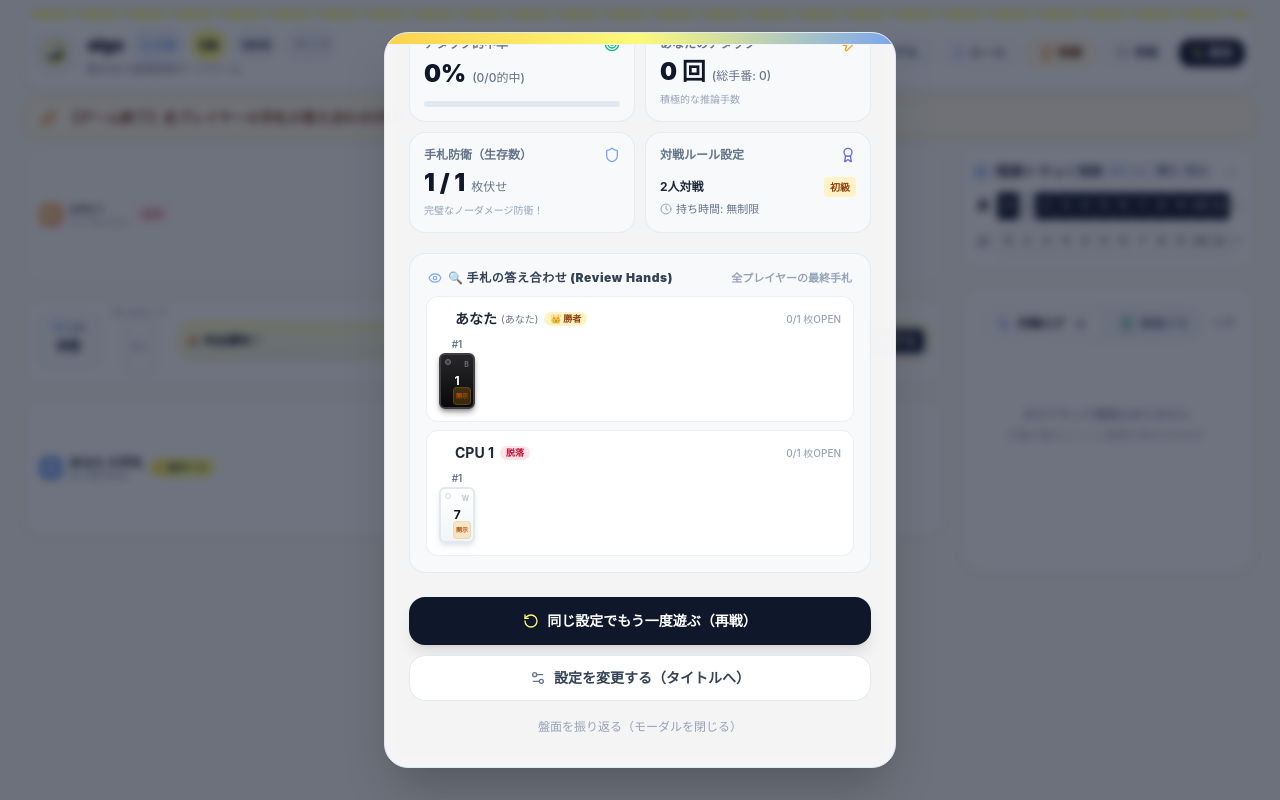
GameBoard Component & Timer Pause/Resume Logic (Issue #13) › 持ち時間タイマー警告演出 & プログレスバー & タイムアップ通知 (Issue #15) › 決着画面（SCR-006 / GAME_OVER）と ResultModal の統合検証 › Issue #60: リザルトモーダルを閉じた際（盤面振り返り時）に相手カードが開示されたままであり、結果を見るボタンが表示される
(page scrolled)
# 「盤面を振り返る（モーダルを閉じる）」をクリック
Click the button "盤面を振り返る（モーダルを閉じる）".
click(640, 727)  # box 409,711 -> 871,743
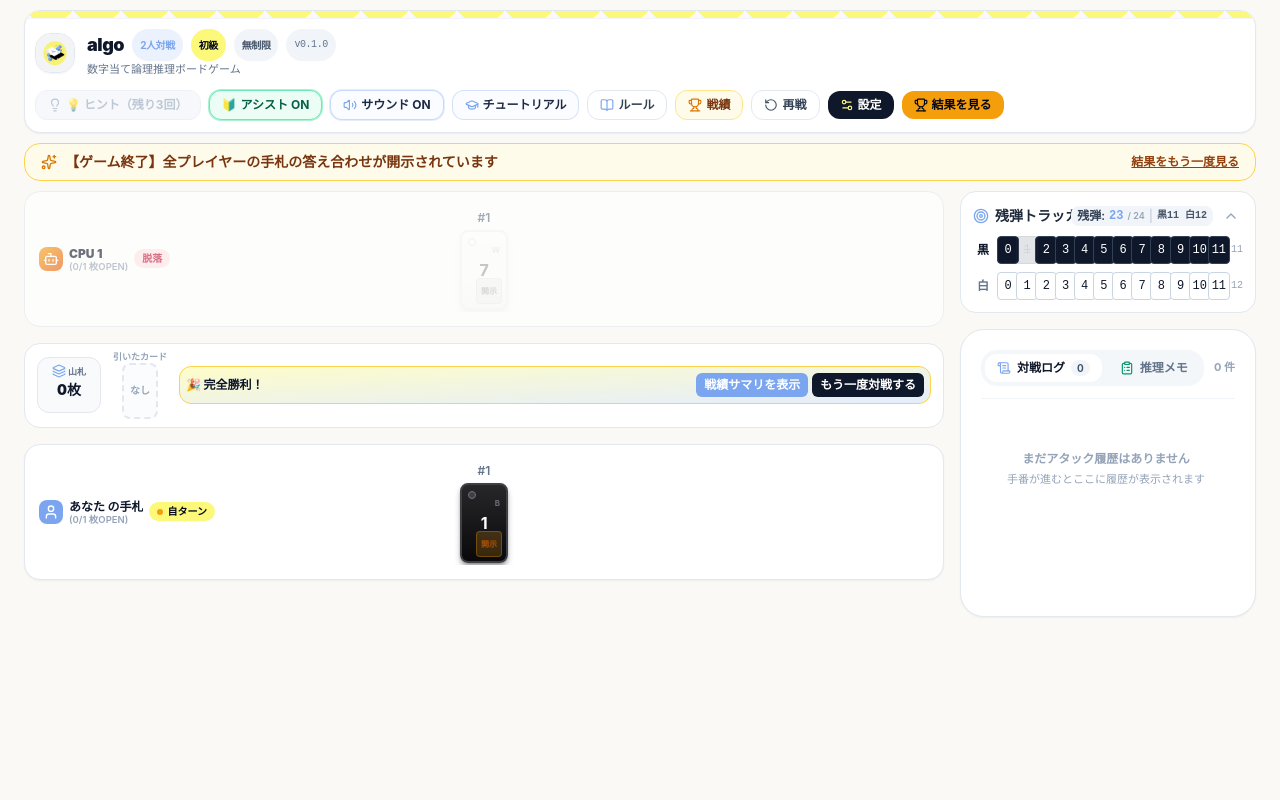
Expected: the element with test id "opponent-card-0" shows "7", 480,260 -> 488,280
Now the dialog with test id "result-modal" is gone
Now the button with test id "btn-reopen-result" is shown
# 再表示ボタンをクリックするとリザルトモーダルが再び開くこと
Click the button with test id "btn-reopen-result".
click(952, 104)  # box 902,90 -> 1004,118
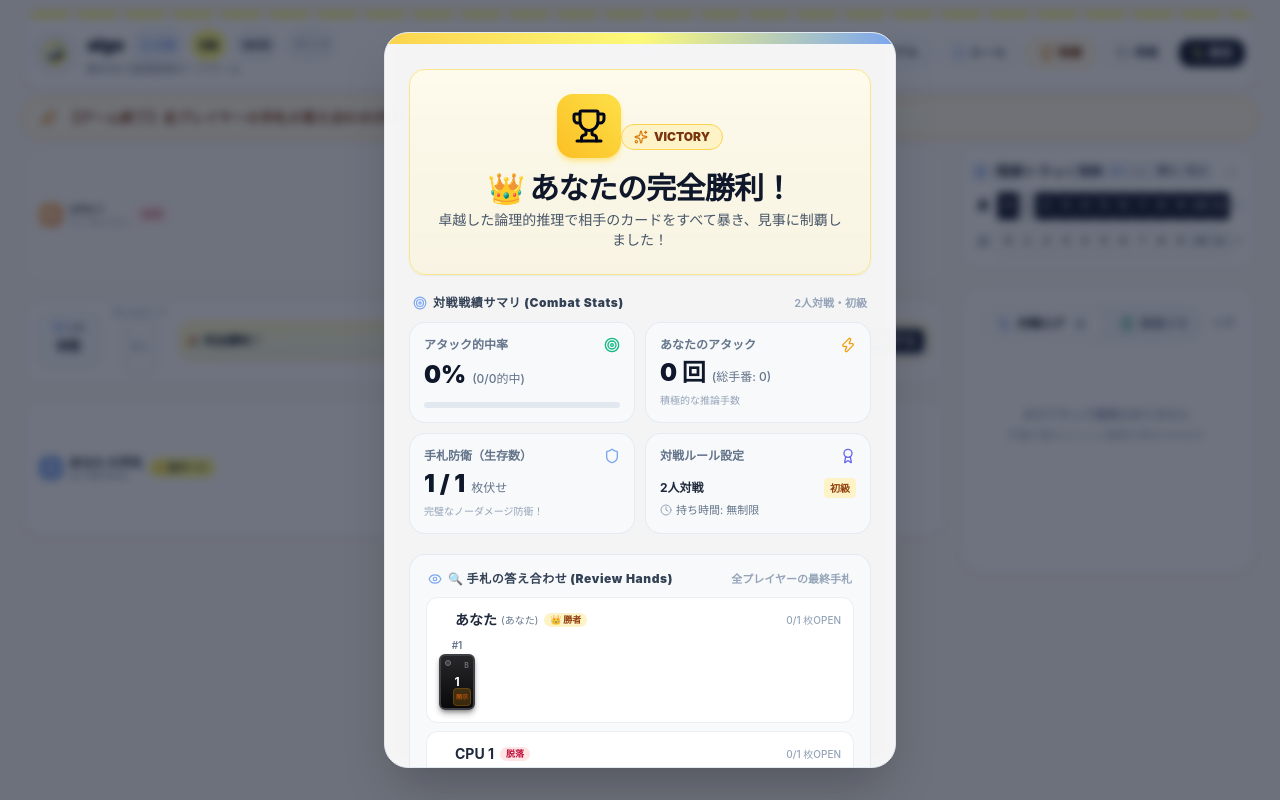
Now the dialog with test id "result-modal" is shown, box 384,32 -> 896,768
